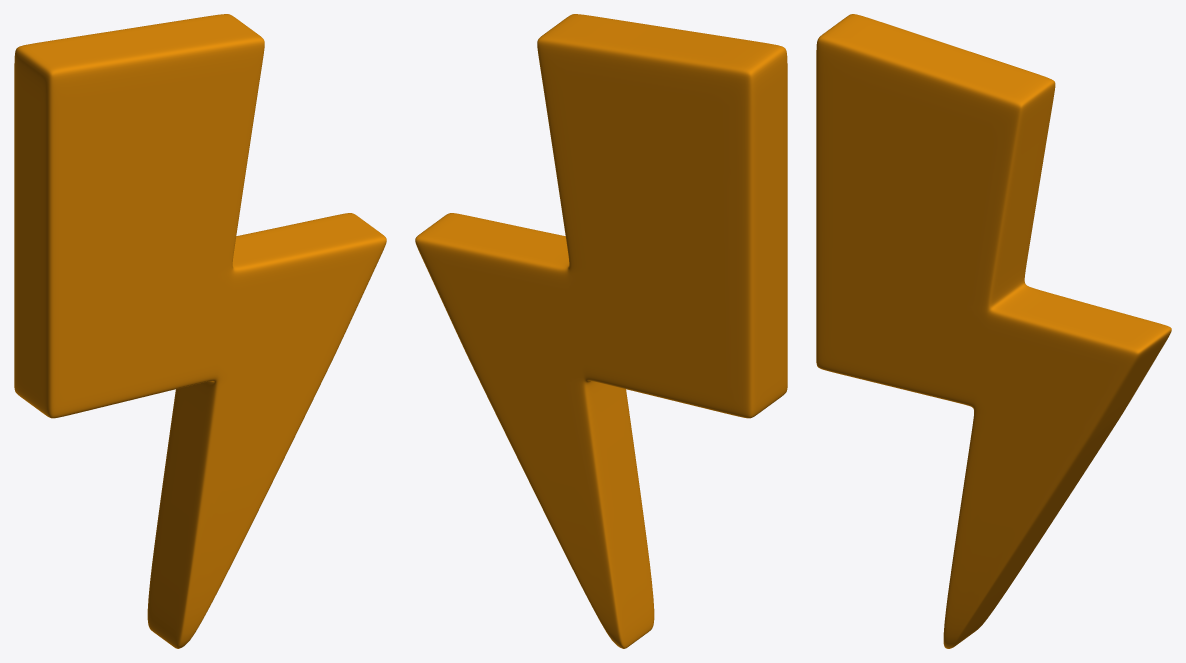
Rendered from flash.glb.
3 views of the same model, side by side, from view 1: azimuth 30°, elevation 25°; view 2: azimuth 150°, elevation 25°; view 3: azimuth 330°, elevation 25° (orthographic). The views are drawn at different scales.
Parts seen in each view (by area): view 1: Plane.005; view 2: Plane.005; view 3: Plane.005.
Part boxes in pixels (<box>): Plane.005: <box>14,14,386,648</box>; Plane.005: <box>415,14,787,648</box>; Plane.005: <box>816,14,1171,648</box>.
Bounding box in the file's own units: 1.13 × 1.95 × 0.2228.
